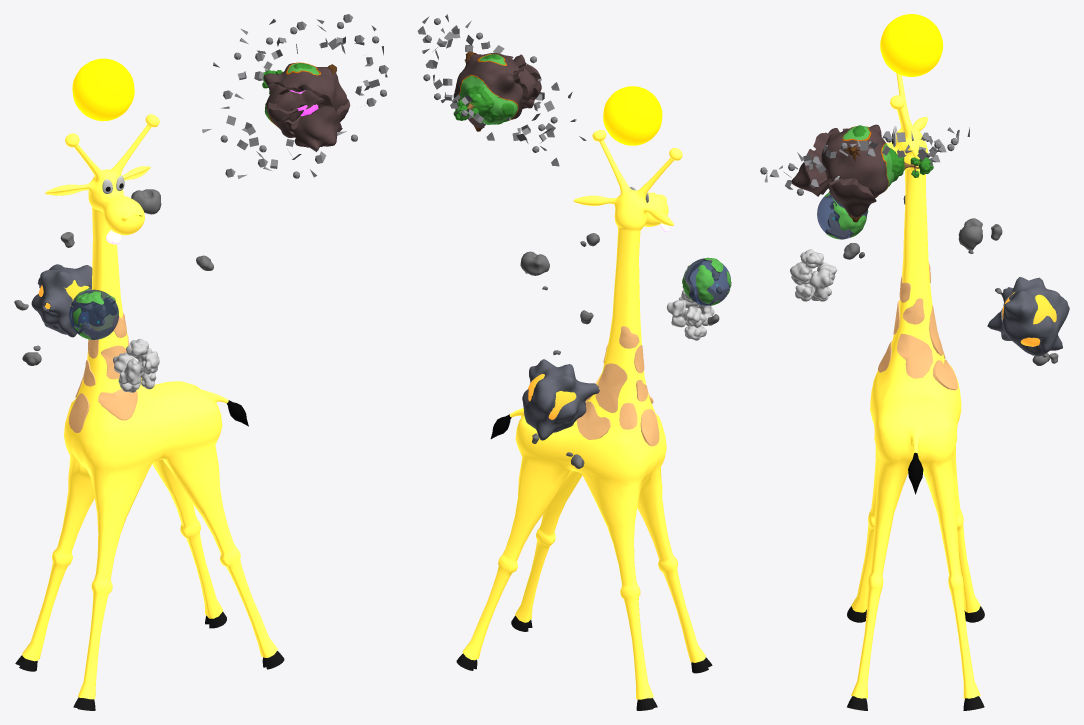
Rendered from GiraffeCentrism.fbx.
3 renders of one model, left to right at view 1: azimuth 30°, elevation 25°; view 2: azimuth 150°, elevation 25°; view 3: azimuth 270°, elevation 25°, orthographic. The views are drawn at different scales.
Parts seen in each view (by area): view 1: Body01, SunGlobe01, polySurface8, PlanetBody, ShardCastle, PlanetBody02, PlanetBody01, MarkD04; view 2: Body01, polySurface8, SunGlobe01, PlanetBody, MarkC03, PlanetBody02, GrassPlanes, PlanetBody01, MarkE03, Forest1, MarkF02, Asteroid04 (+2 smaller); view 3: Body01, polySurface8, SunGlobe01, PlanetBody, ShardMassive, MarkB02, ShardCastle, PlanetBody02, PlanetBody01, PlanetSurface1, Asteroid04, polySurface6 (+2 smaller).
Boxes of the visible parts, x1,y1,x2,y2 form: Body01: (22,114,277,699); SunGlobe01: (72,58,134,121); polySurface8: (31,264,92,337); PlanetBody: (264,62,347,137); ShardCastle: (292,106,342,150); PlanetBody02: (69,289,118,339); PlanetBody01: (70,290,118,338); MarkD04: (98,388,137,420); Body01: (462,130,705,699); polySurface8: (522,359,599,440); SunGlobe01: (603,86,662,145); PlanetBody: (453,53,524,123); MarkC03: (595,363,627,412); PlanetBody02: (684,259,730,305); GrassPlanes: (459,54,517,124); PlanetBody01: (685,259,729,305); MarkE03: (576,401,610,439); Forest1: (465,85,514,122); MarkF02: (640,409,659,446); Asteroid04: (520,251,549,275); Body01: (851,73,980,698); polySurface8: (987,277,1069,356); SunGlobe01: (880,14,943,76); PlanetBody: (821,124,888,197); ShardMassive: (828,178,876,217); MarkB02: (897,333,933,378); ShardCastle: (791,149,835,196); PlanetBody02: (817,195,867,238); PlanetBody01: (817,195,866,238); PlanetSurface1: (1002,292,1056,346); Asteroid04: (958,218,982,250); polySurface6: (831,198,866,237).
Size of what is drawn, in the model's own units: 34.05 by 60.16 by 26.99.
